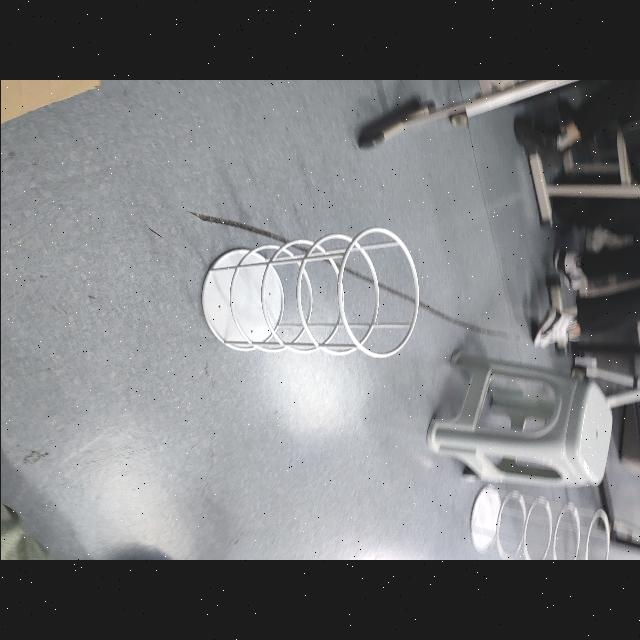S: (196, 225, 422, 361)
